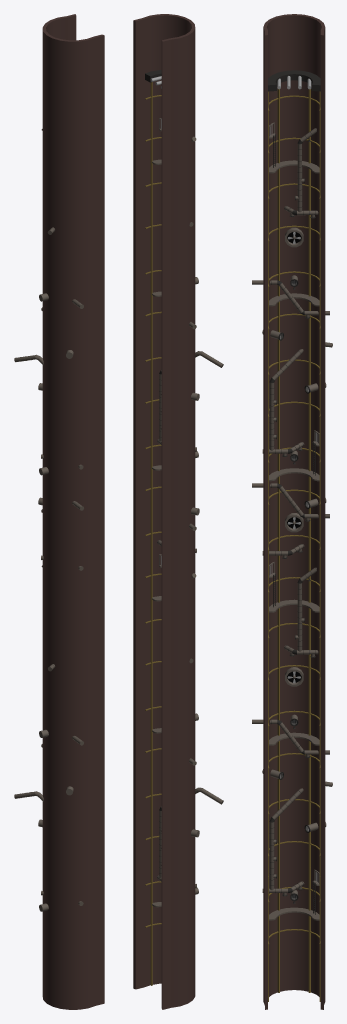
Rendered from Background_v08_Combined.fbx.
3 views of the same model, side by side, from view 1: azimuth 30°, elevation 25°; view 2: azimuth 210°, elevation 25°; view 3: azimuth 270°, elevation 25° (orthographic).
Parts seen in each view (by area): view 1: Background4; view 2: Background4; view 3: Background4.
Boxes of the visible parts, left/top/right/bottom form: Background4: left=14, top=14, right=104, bottom=1009; Background4: left=133, top=14, right=223, bottom=1009; Background4: left=252, top=14, right=332, bottom=1009.
Size of the model in its own units: 18.5 by 296 by 22.26.
